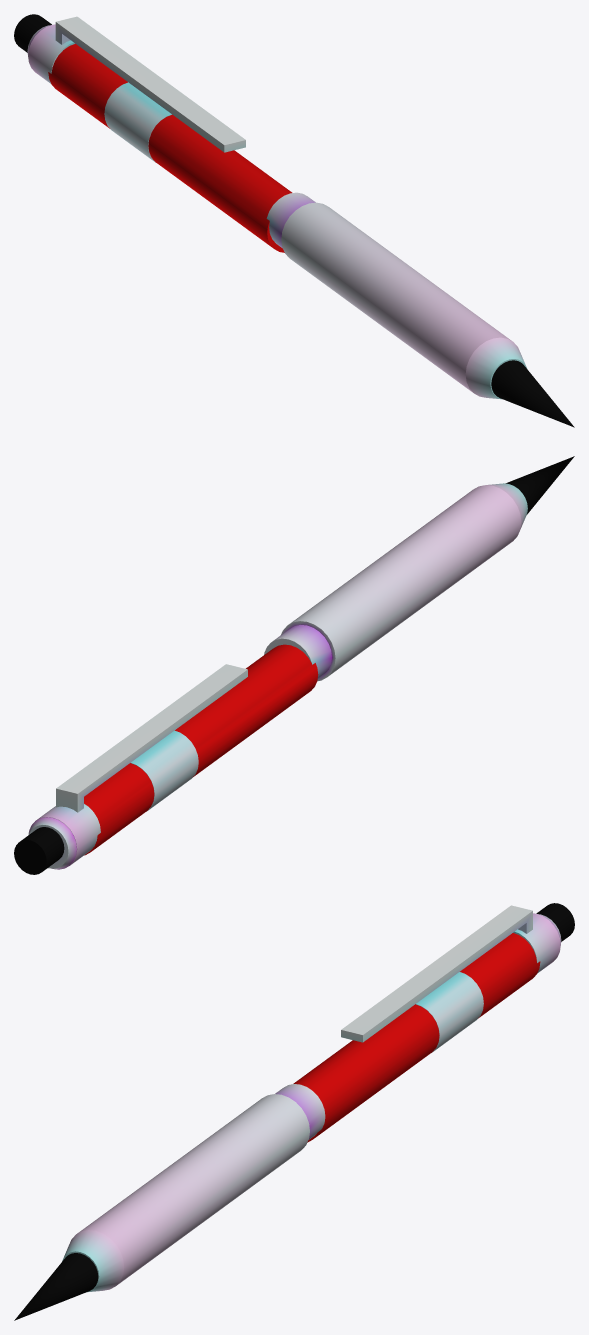
The picture shows the model from 3 angles, top to bottom: view 1: azimuth 30°, elevation 25°; view 2: azimuth 150°, elevation 25°; view 3: azimuth 330°, elevation 25°; orthographic projection.
Visible parts, largest first — view 1: sleeve, red_body, clip, silver_band, point, collar, stub; view 2: sleeve, red_body, clip, silver_band, collar, stub, point; view 3: sleeve, red_body, clip, silver_band, point, collar, stub.
Boxes of the visible parts, <box> form: sleeve: <box>266,192,527,399</box>; red_body: <box>48,43,292,252</box>; clip: <box>55,16,245,152</box>; silver_band: <box>104,82,171,162</box>; point: <box>491,360,574,427</box>; collar: <box>27,24,74,83</box>; stub: <box>14,14,51,52</box>; sleeve: <box>264,483,527,681</box>; red_body: <box>84,644,318,855</box>; clip: <box>56,664,247,812</box>; silver_band: <box>130,730,198,811</box>; collar: <box>28,804,100,869</box>; stub: <box>14,827,64,874</box>; point: <box>505,456,574,514</box>; sleeve: <box>62,1084,325,1292</box>; red_body: <box>293,933,540,1142</box>; clip: <box>341,905,532,1042</box>; silver_band: <box>415,972,483,1052</box>; point: <box>14,1253,98,1320</box>; collar: <box>513,913,561,973</box>; stub: <box>536,903,574,941</box>.
Size of the model in its own units: 0.0104 by 0.0122 by 0.1736.
